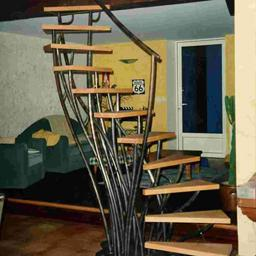Escaleras: (42, 5, 239, 254)
Matera: (217, 89, 241, 213)
Puerta: (177, 43, 225, 160)
